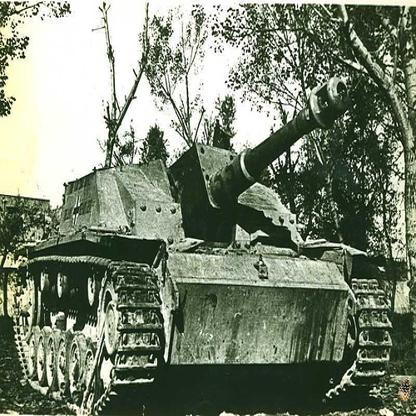Tank: (14, 70, 396, 416)
